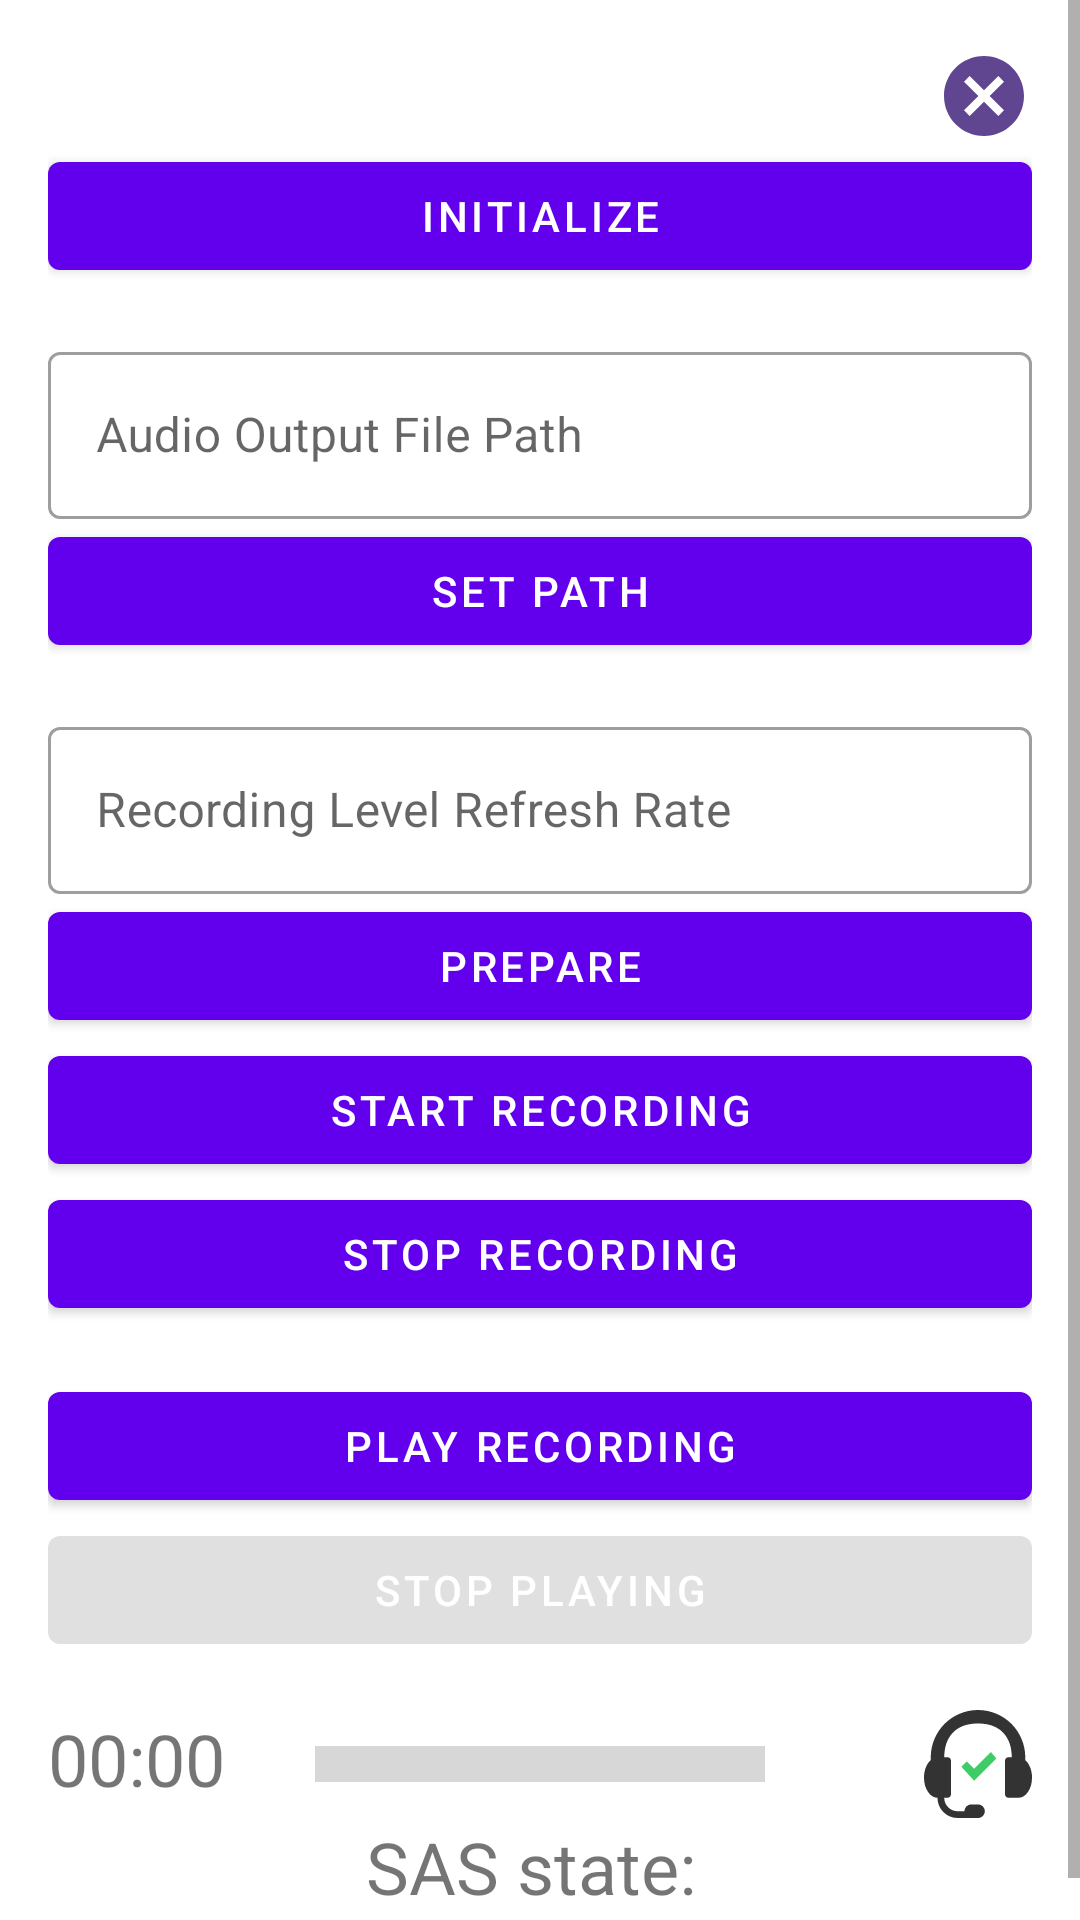

Named icons in this screenshot (1080×1920) and their bounding boxes, (x1, y1, x2, y2):
close: (944, 56, 1024, 136)
headset state: (924, 1710, 1032, 1818)
